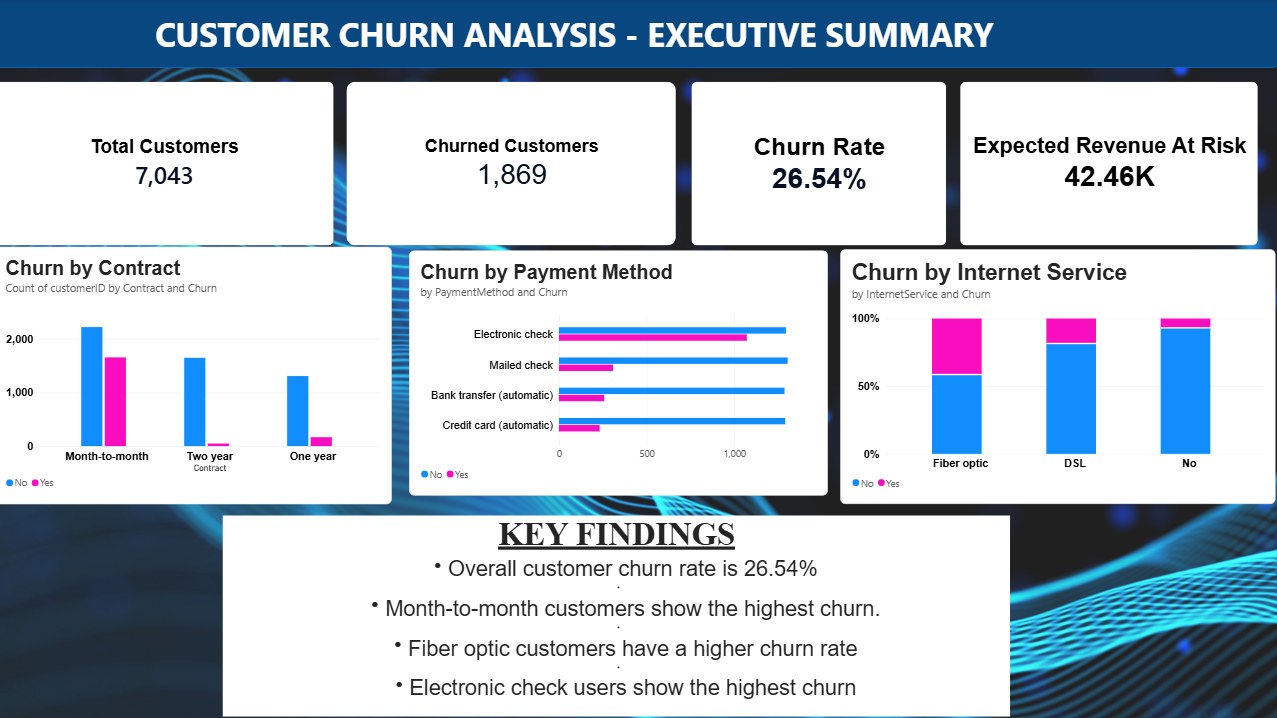

This screenshot's page, from the dashboard's own definition file:
{"tool":"powerbi","page":{"name":"Executive Summary","canvas":[1920,1080],"ordinal":3},"visuals":[{"type":"shape","box":[0,0,1919.6,103.1],"z":0},{"type":"textbox","box":[185,20,1435,83.3],"z":1000},{"type":"cardVisual","fields":{"Data":["customer_churn_analysis.Total Customers Display"]},"box":[14.7,123.3,500.6,241.1],"z":2000},{"type":"cardVisual","fields":{"Data":["customer_churn_analysis.Churned Customers Display"]},"box":[533.7,123.3,485.9,241.1],"z":3000},{"type":"cardVisual","fields":{"Data":["customer_churn_analysis.Churn Rate"]},"box":[1041.7,123.3,375.5,241.1],"z":4000},{"type":"cardVisual","fields":{"Data":["Sum(customer_risk_report.Expected Revenue At Risk)"]},"box":[1437.4,123.3,438,241.1],"z":5000},{"type":"clusteredColumnChart","title":"Churn by Contract","fields":{"Category":["customer_churn_analysis.Contract"],"Series":["customer_churn_analysis.Churn"],"Y":["CountNonNull(customer_churn_analysis.customerID)"]},"box":[14.7,366.3,585.3,379.1],"z":7000},{"type":"hundredPercentStackedColumnChart","fields":{"Category":["customer_churn_analysis.InternetService"],"Series":["customer_churn_analysis.Churn"],"Y":["CountNonNull(customer_churn_analysis.customerID)"]},"box":[1260.7,369.9,640.5,375.5],"z":8000},{"type":"clusteredBarChart","fields":{"Category":["customer_churn_analysis.PaymentMethod"],"Series":["customer_churn_analysis.Churn"],"Y":["CountNonNull(customer_churn_analysis.customerID)"]},"box":[625.8,371.8,616.6,360.7],"z":9000},{"type":"textbox","box":[173.3,703.3,1401.7,58.3],"z":11000},{"type":"textbox","box":[351.5,762,1159.5,296.3],"z":12000}]}

Visuals, with their boxes in screenshot pixels (x1, y1, x2, y2), scaled from the page's 1920x1080 canvas onto the 1277x718 screenshot:
shape: x1=0, y1=0, x2=1276, y2=69
textbox: x1=123, y1=13, x2=1077, y2=69
cardVisual - customer_churn_analysis.Total Customers Display: x1=10, y1=82, x2=343, y2=242
cardVisual - customer_churn_analysis.Churned Customers Display: x1=355, y1=82, x2=678, y2=242
cardVisual - customer_churn_analysis.Churn Rate: x1=693, y1=82, x2=943, y2=242
cardVisual - Sum(customer_risk_report.Expected Revenue At Risk): x1=956, y1=82, x2=1247, y2=242
"Churn by Contract" clusteredColumnChart: x1=10, y1=244, x2=399, y2=496
hundredPercentStackedColumnChart - customer_churn_analysis.InternetService x customer_churn_analysis.Churn: x1=838, y1=246, x2=1264, y2=496
clusteredBarChart - customer_churn_analysis.PaymentMethod x customer_churn_analysis.Churn: x1=416, y1=247, x2=826, y2=487
textbox: x1=115, y1=468, x2=1048, y2=506
textbox: x1=234, y1=507, x2=1005, y2=704
